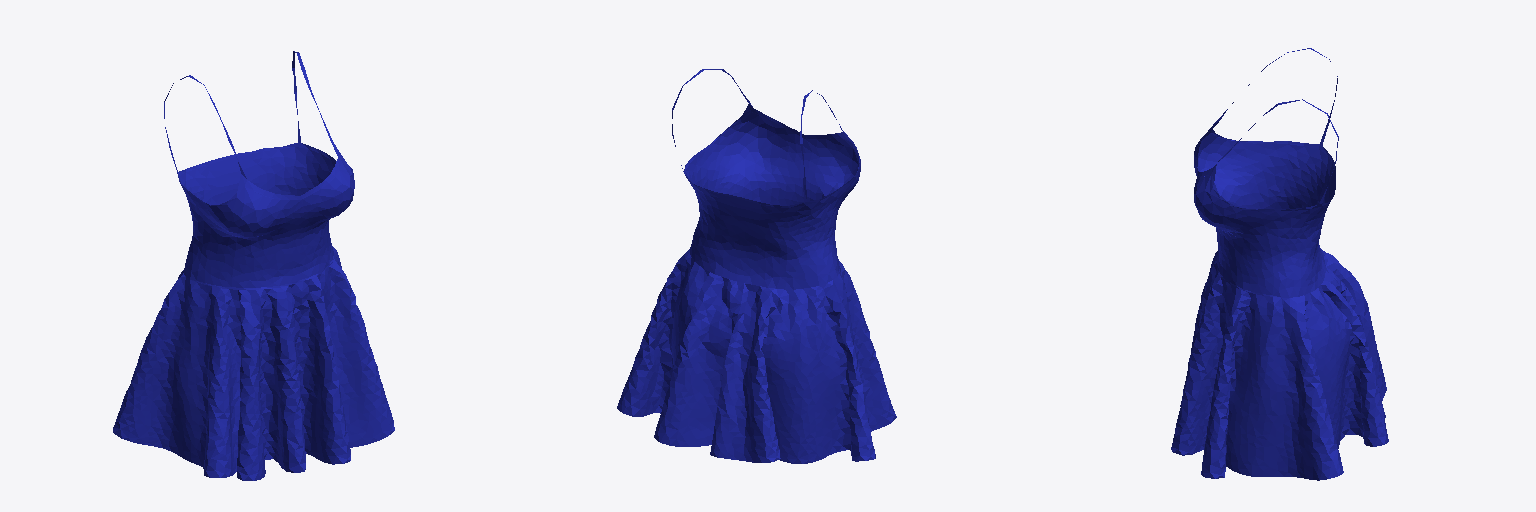
3 renders of one model, left to right at view 1: azimuth 30°, elevation 25°; view 2: azimuth 150°, elevation 25°; view 3: azimuth 270°, elevation 25°, orthographic.
Parts seen in each view (by area): view 1: medium_blueDress:polySurface1; view 2: medium_blueDress:polySurface1; view 3: medium_blueDress:polySurface1.
Part boxes in pixels (bbox=[...]): medium_blueDress:polySurface1: bbox=[113, 51, 394, 480]; medium_blueDress:polySurface1: bbox=[617, 69, 896, 463]; medium_blueDress:polySurface1: bbox=[1171, 48, 1388, 480].
Bounding box in the file's own units: 5.33 × 7.46 × 4.05.
Materials: 10 (1 with a texture image).